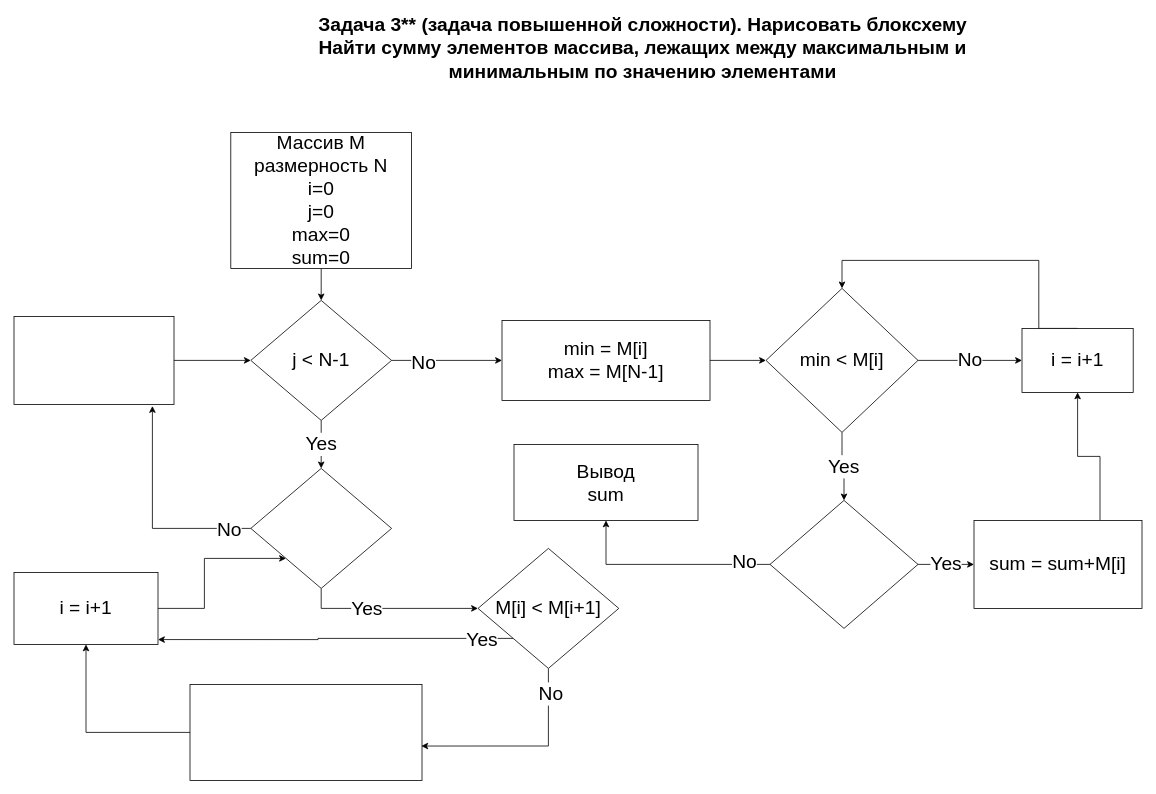
Image size: 1156x794. Some labels were removed from this diagram. The shapes that lost their labels are listed below. From the top down, each one's centre as x and y in pixels, then its label:
At (93,360): "j = j+1 i = 0".
At (321,528): "i < N-1".
At (843,564): "max > M[i]".
At (305,732): "max = M[i] M[i] = M[i+1] M[i+1] = max".
